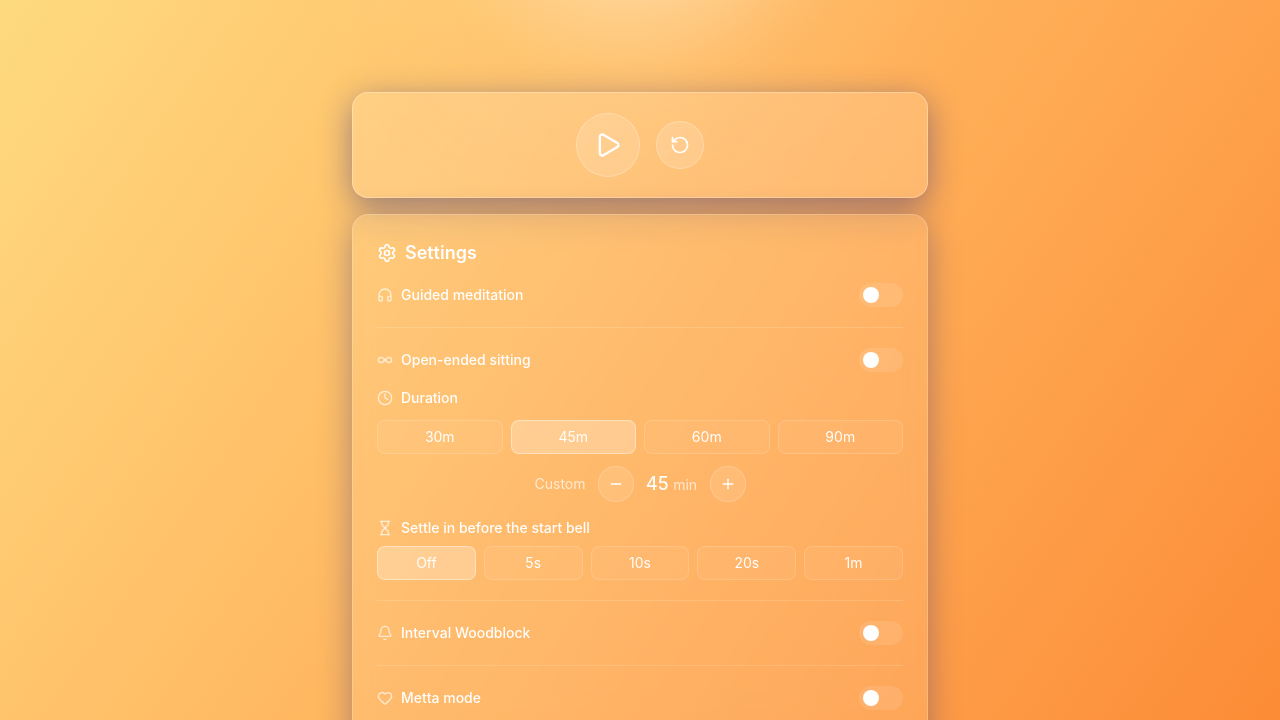
Test: App › open-ended sitting › counts up, with no end time
(page scrolled)
Expected: the button named "Start" is enabled, x1=576 y1=113 x2=640 y2=177
Step 1. Click the switch named "Open-ended sitting" → (881, 360), box x1=859 y1=348 x2=903 y2=372
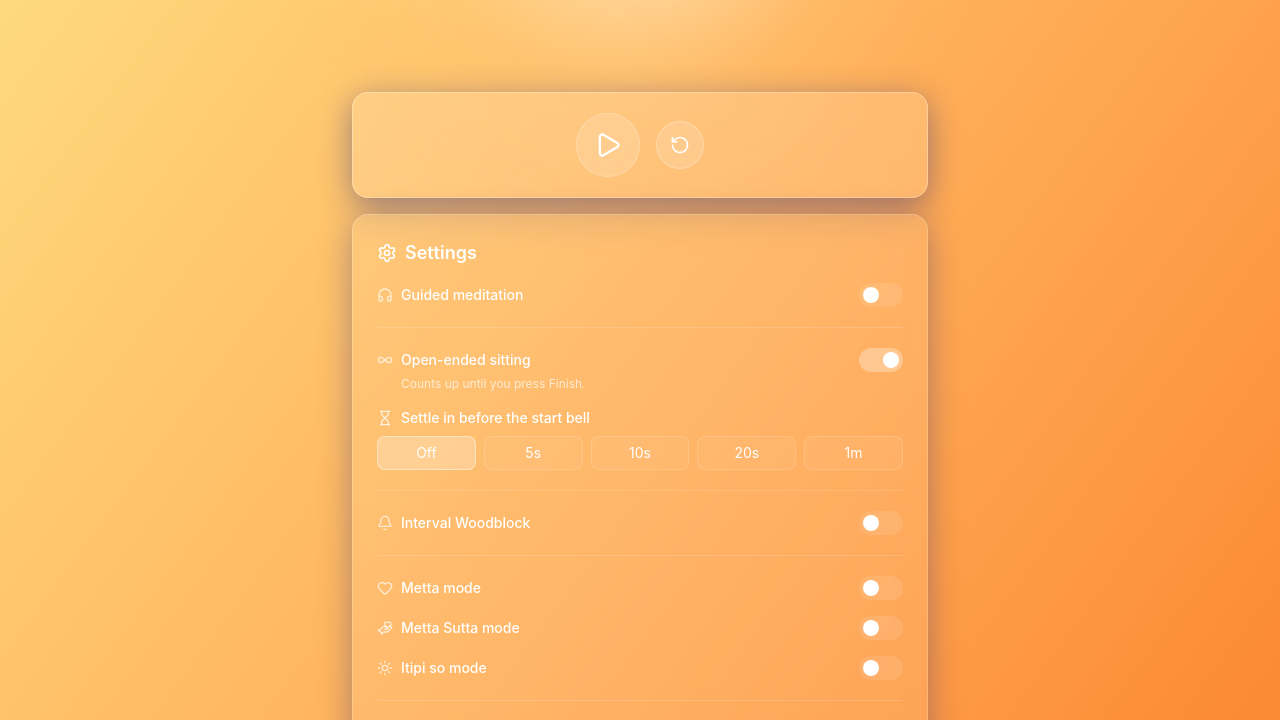
Step 2. Click the button named "Start" → (608, 145), box x1=576 y1=113 x2=640 y2=177
Wait 75000 ms
(page scrolled)
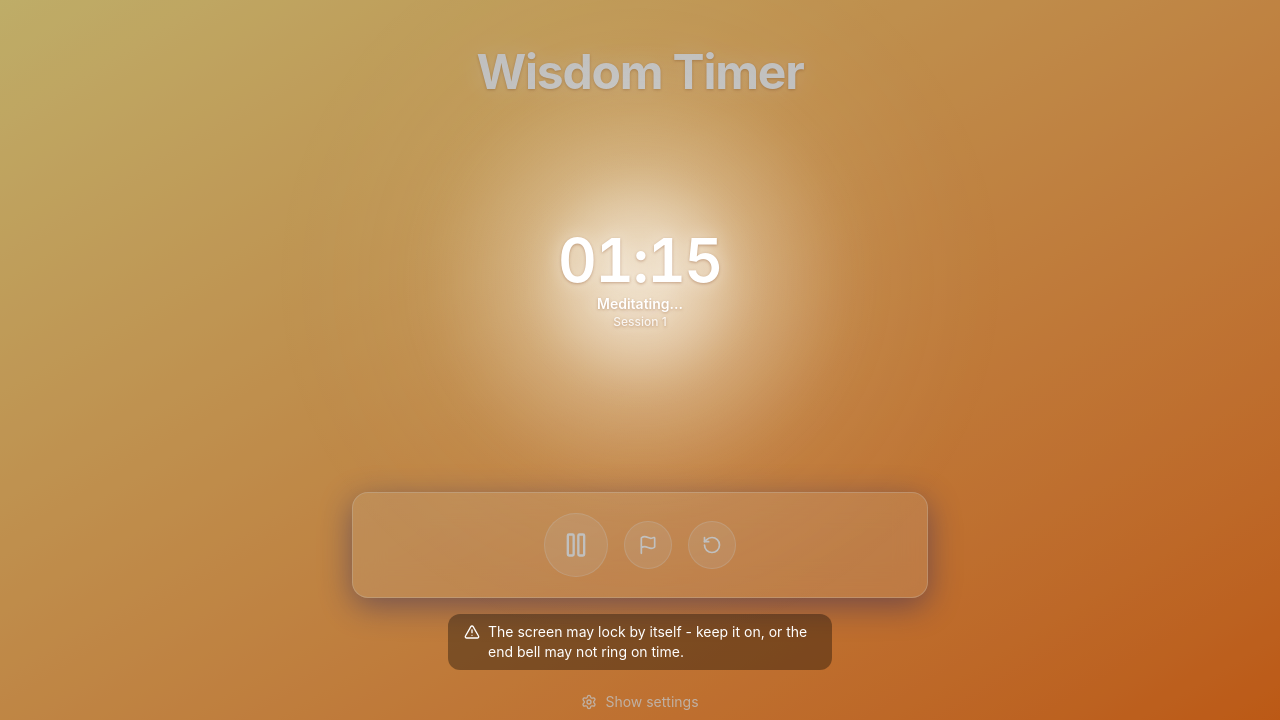
Now the text "01:15" is shown, box x1=558 y1=230 x2=722 y2=290
